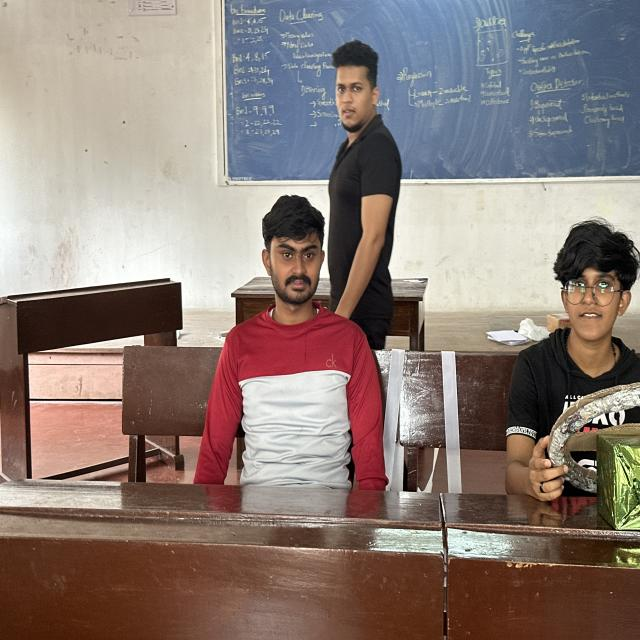no-seatbelt: (216, 310, 384, 503), (502, 328, 640, 516), (313, 119, 410, 329)
